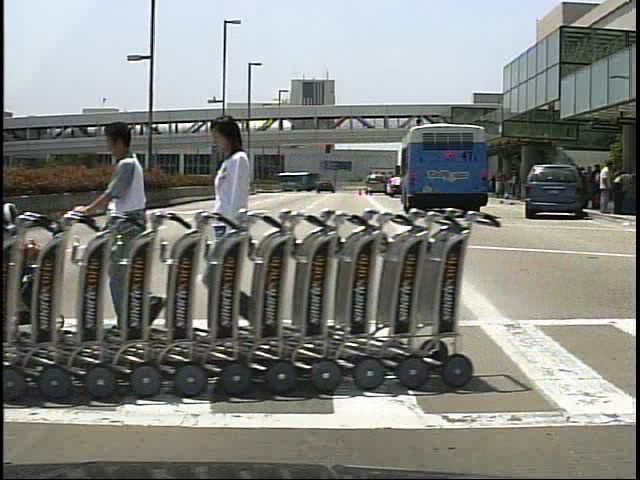person: (200, 113, 283, 350), (82, 120, 165, 339), (597, 160, 618, 215), (589, 162, 605, 215)
